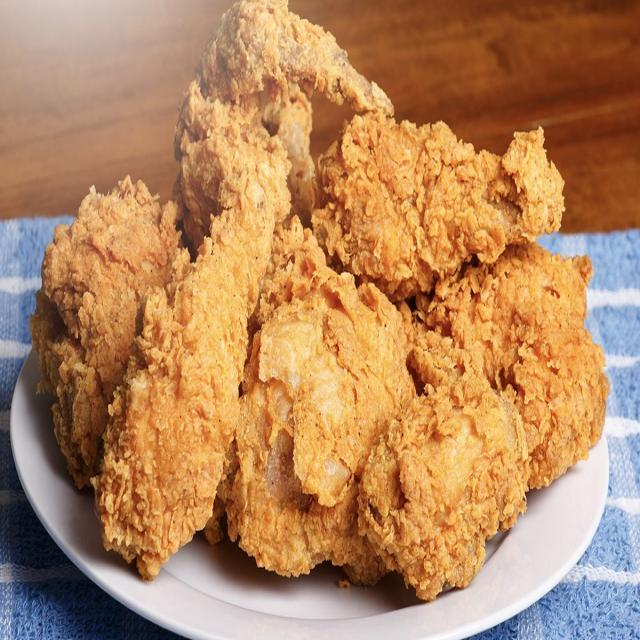ayam_goreng: (31, 42, 608, 556)
